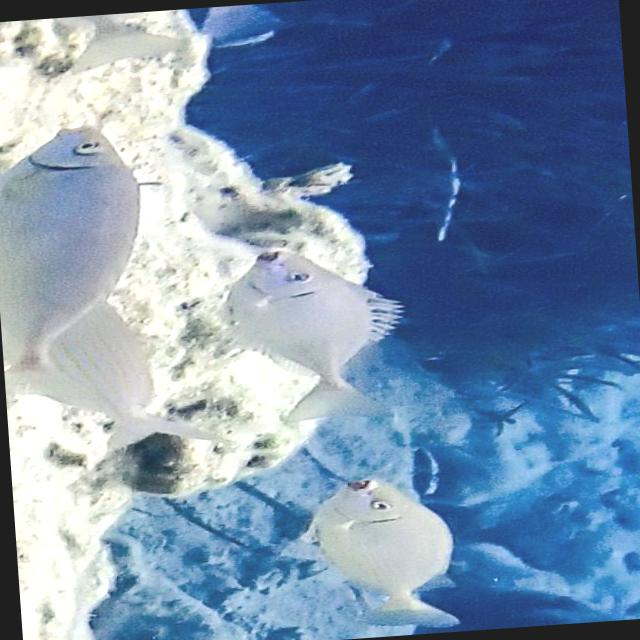Sokar Baligi: (236, 224, 422, 431), (290, 459, 474, 640)
